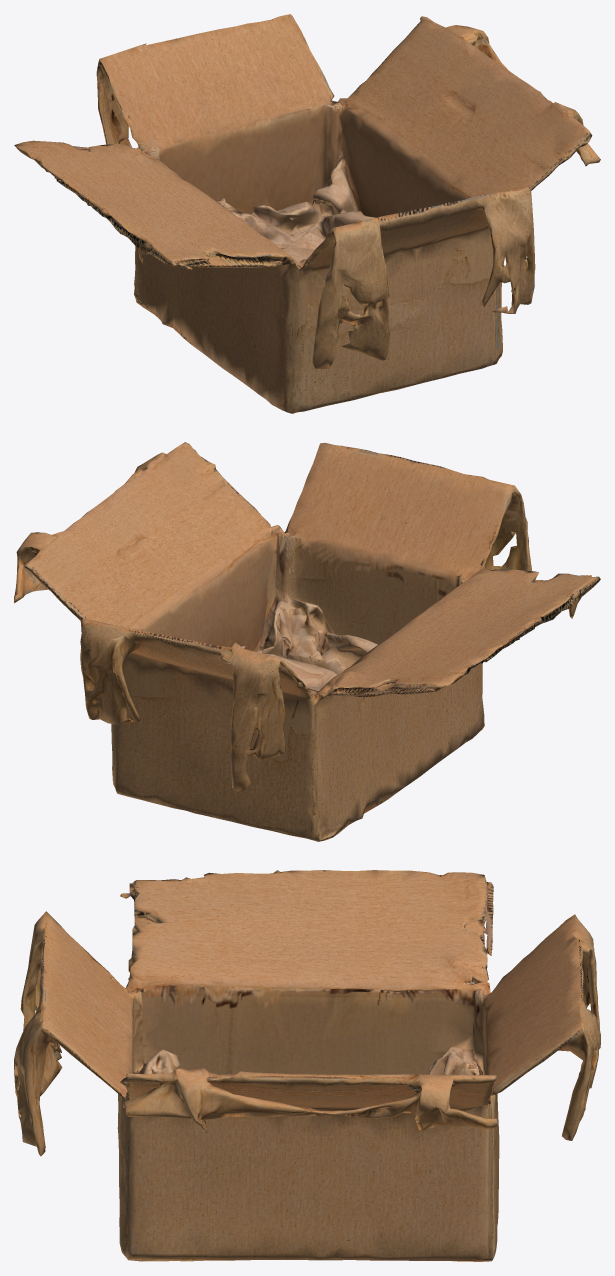
Rendered from OpenedParcel.glb.
3 renders of one model, top to bottom at view 1: azimuth 30°, elevation 25°; view 2: azimuth 150°, elevation 25°; view 3: azimuth 270°, elevation 25°, orthographic. The views are drawn at different scales.
Parts seen in each view (by area): view 1: texture_mapping; view 2: texture_mapping; view 3: texture_mapping.
Boxes of the visible parts, x1,y1,x2,y2 form: texture_mapping: [14, 14, 600, 413]; texture_mapping: [14, 442, 600, 841]; texture_mapping: [14, 870, 600, 1261].
Size of the model in its own units: 1 by 0.4639 by 0.9984.
Materials: 1 (1 with a texture image).
